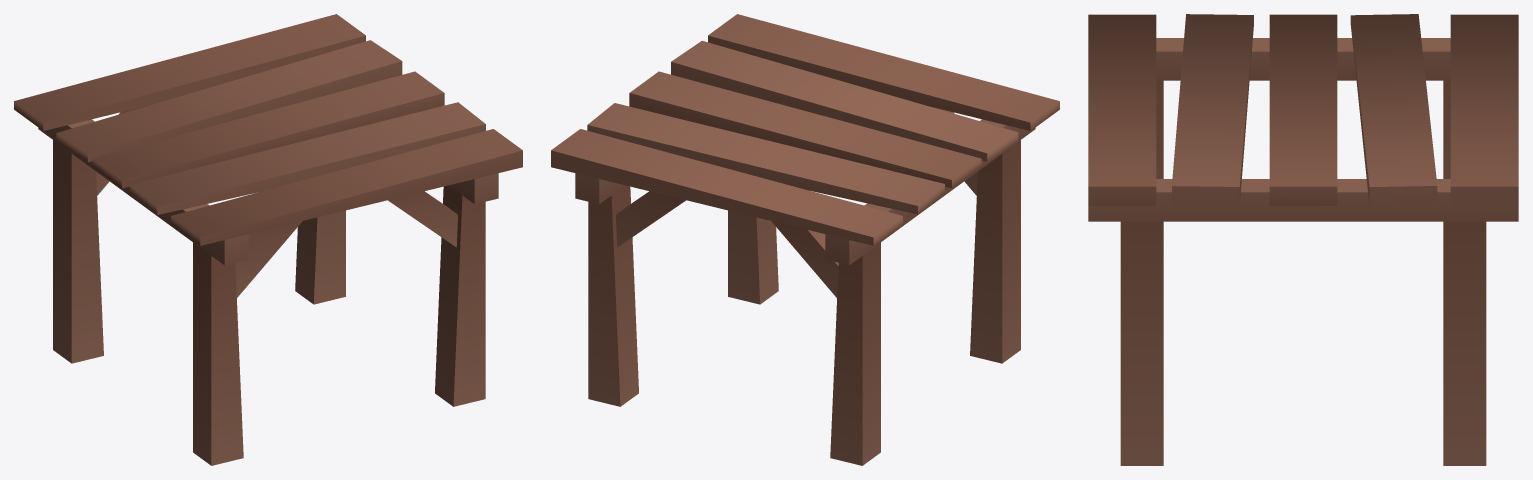
File: template-floor-layer-raised.obj
3 views of the same model, side by side, from view 1: azimuth 30°, elevation 25°; view 2: azimuth 150°, elevation 25°; view 3: azimuth 270°, elevation 25° (orthographic). The views are drawn at different scales.
Parts seen in each view (by area): view 1: template-floor-layer-raised; view 2: template-floor-layer-raised; view 3: template-floor-layer-raised.
Part boxes in pixels (x1,y1,x2,y2): template-floor-layer-raised: [14, 14, 522, 465]; template-floor-layer-raised: [551, 14, 1059, 465]; template-floor-layer-raised: [1088, 14, 1518, 465].
Size of the model in its own units: 4.02 by 3 by 4.
Materials: 1 (1 with a texture image).
